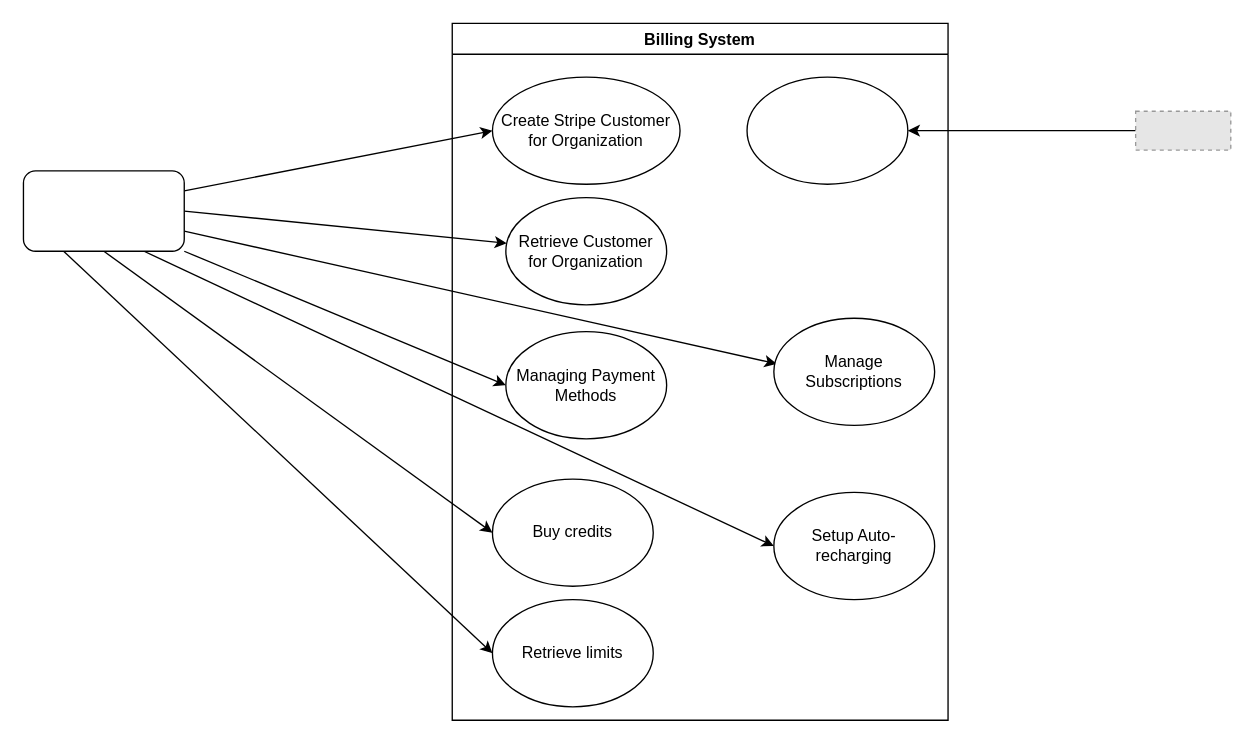
Image size: 1254x744. Some labels were removed from this diagram. Grey dashed boxes stand in for pictures. Each missing label, with the centre of its shape:
"Config Service" goes at (x=103, y=210).
"Event handling (Webhook)" goes at (x=827, y=130).
